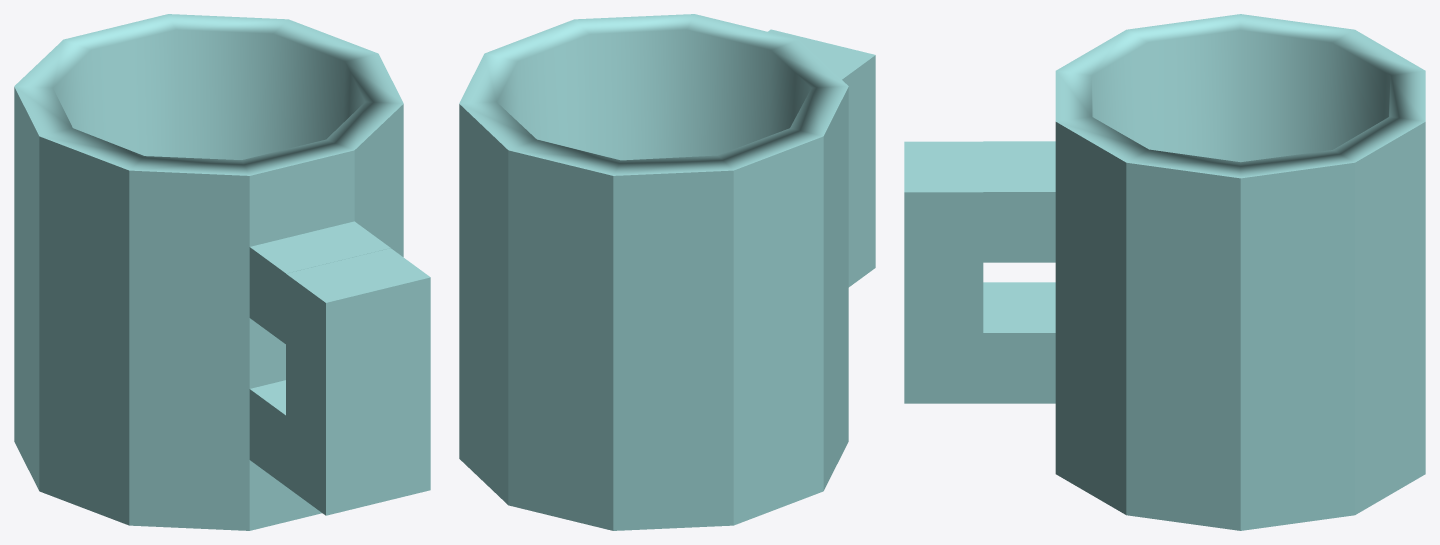
File: PintQuater.fbx
3 views of the same model, side by side, from view 1: azimuth 30°, elevation 25°; view 2: azimuth 150°, elevation 25°; view 3: azimuth 270°, elevation 25° (orthographic).
Parts seen in each view (by area): view 1: pCylinder1; view 2: pCylinder1; view 3: pCylinder1.
Part boxes in pixels (x1,y1,x2,y2): pCylinder1: (14, 14, 430, 530); pCylinder1: (459, 14, 875, 530); pCylinder1: (904, 14, 1425, 530).
Bounding box in the file's own units: 2 × 2 × 2.68.
